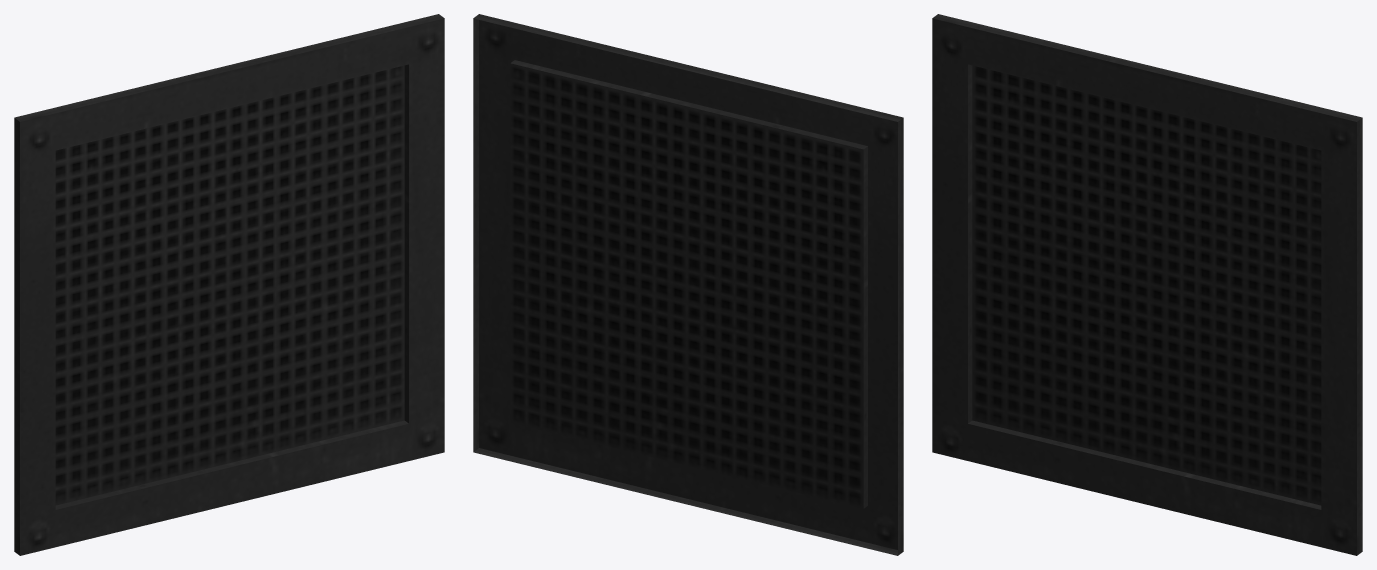
The model's file is vent_3.obj.
3 views of the same model, side by side, from view 1: azimuth 30°, elevation 25°; view 2: azimuth 150°, elevation 25°; view 3: azimuth 330°, elevation 25° (orthographic).
Visible parts, largest first — view 1: vent_3; view 2: vent_3; view 3: vent_3.
Boxes of the visible parts, x1,y1,x2,y2 form: vent_3: [14, 14, 444, 555]; vent_3: [473, 14, 903, 555]; vent_3: [932, 14, 1362, 555].
Size of the model in its own units: 0.8192 by 0.8 by 0.02.
